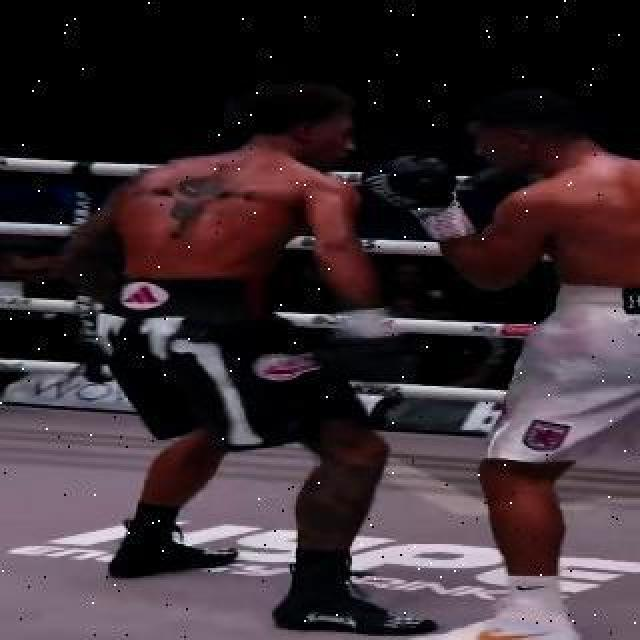fight: (66, 11, 640, 633)
